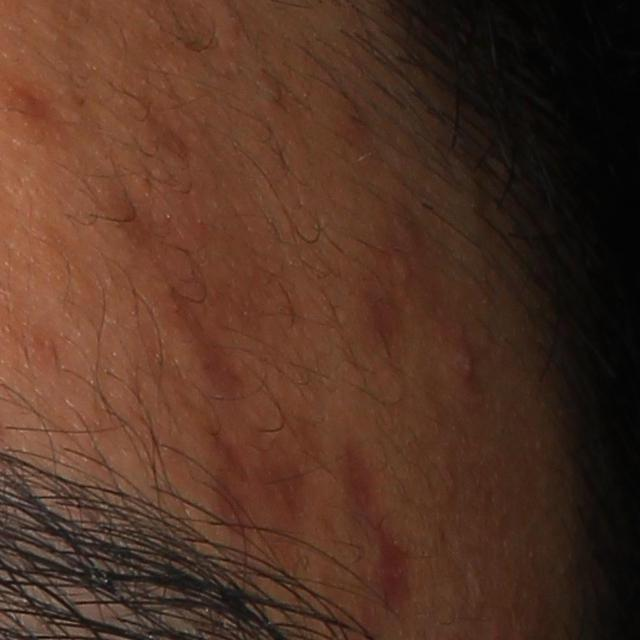atrophic_scar: (99, 177, 248, 391), (338, 433, 417, 613), (206, 422, 302, 530)
papule: (448, 326, 488, 396)
